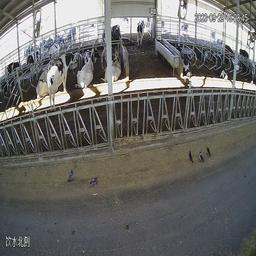cow: (48, 46, 73, 116), (173, 42, 193, 81), (75, 56, 96, 89), (33, 63, 52, 99), (105, 49, 122, 83), (211, 54, 229, 83), (4, 60, 23, 85), (25, 48, 40, 76), (135, 15, 146, 50), (219, 40, 236, 62), (46, 43, 61, 66), (68, 47, 82, 70)
